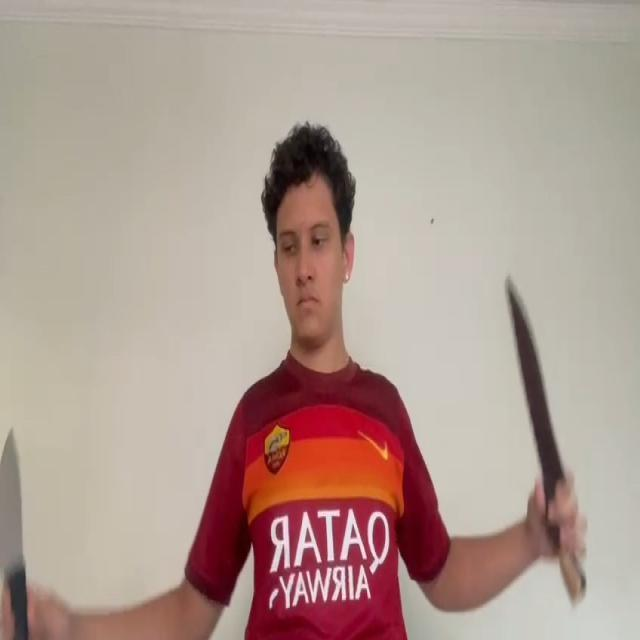knife: (503, 273, 565, 479), (0, 426, 23, 580)
